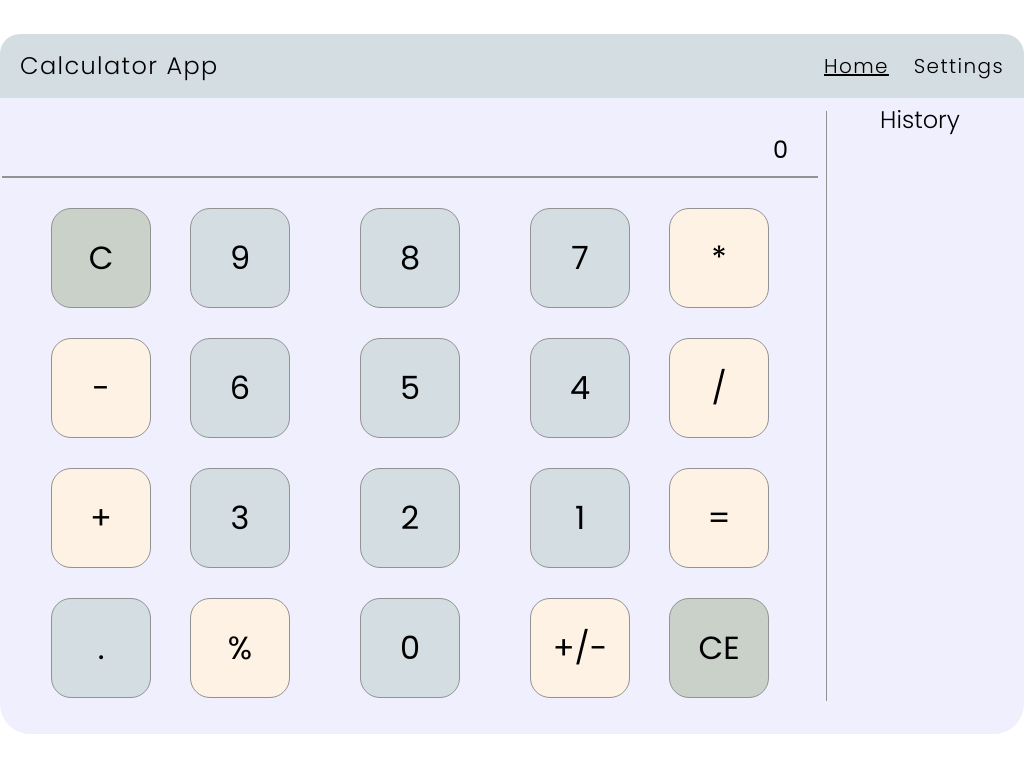
it: Calculator app › should display values
Click the button "9" at [240, 258], box [190,208,290,308]
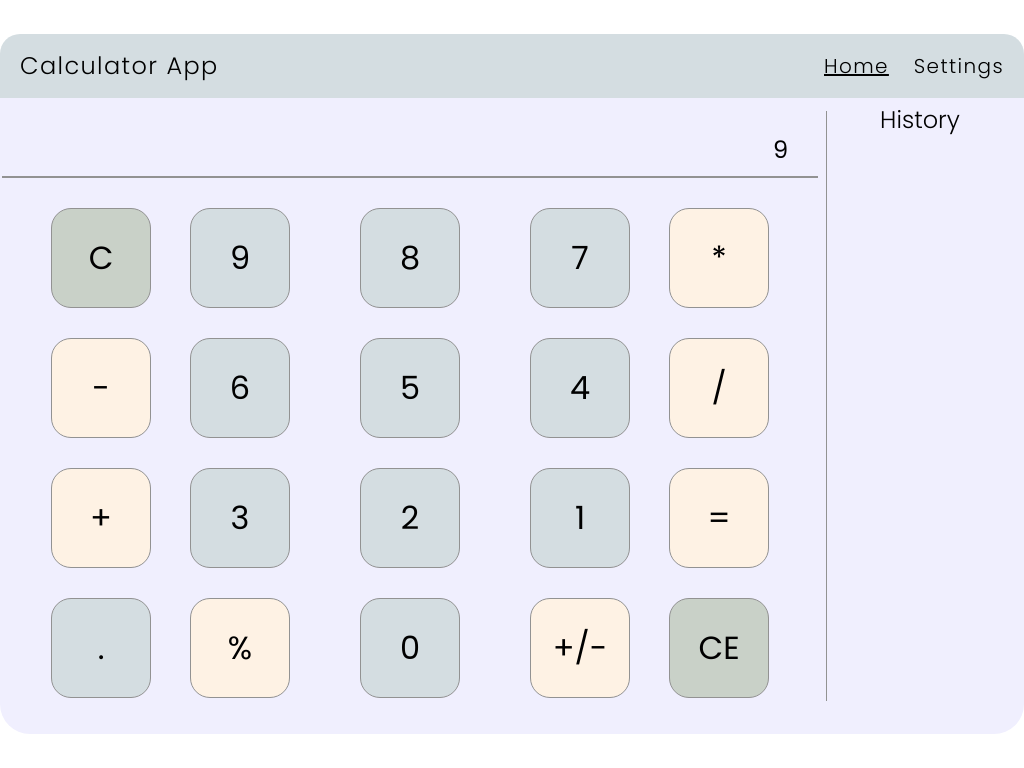
Now the text "9" is shown, box [2,98,818,178]
